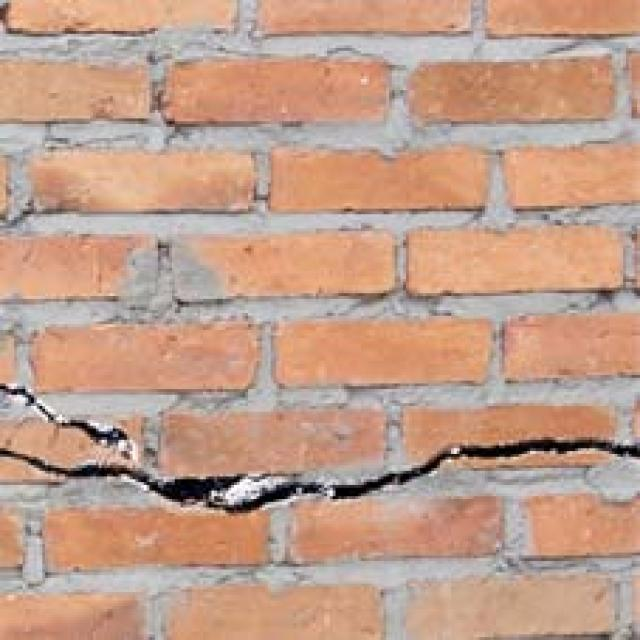Crack: (4, 343, 640, 549)
